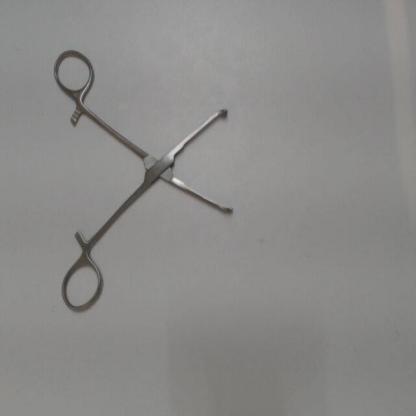Allis Tissue Forceps: (50, 46, 241, 315)
